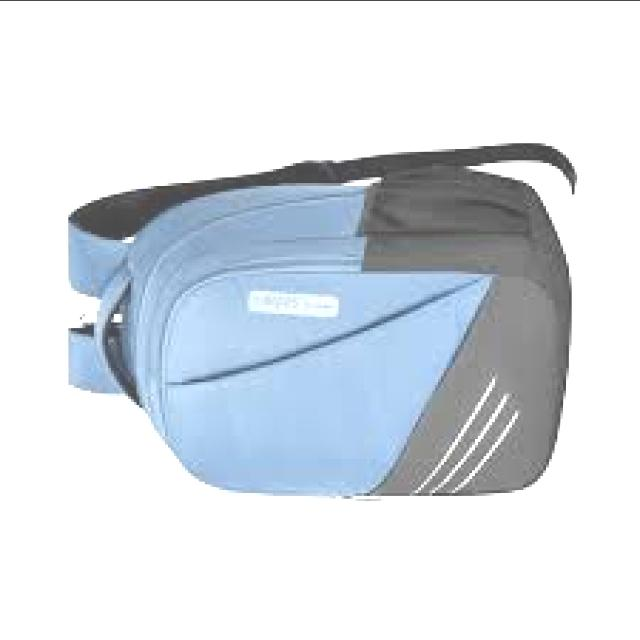backpack: (64, 144, 579, 505)
